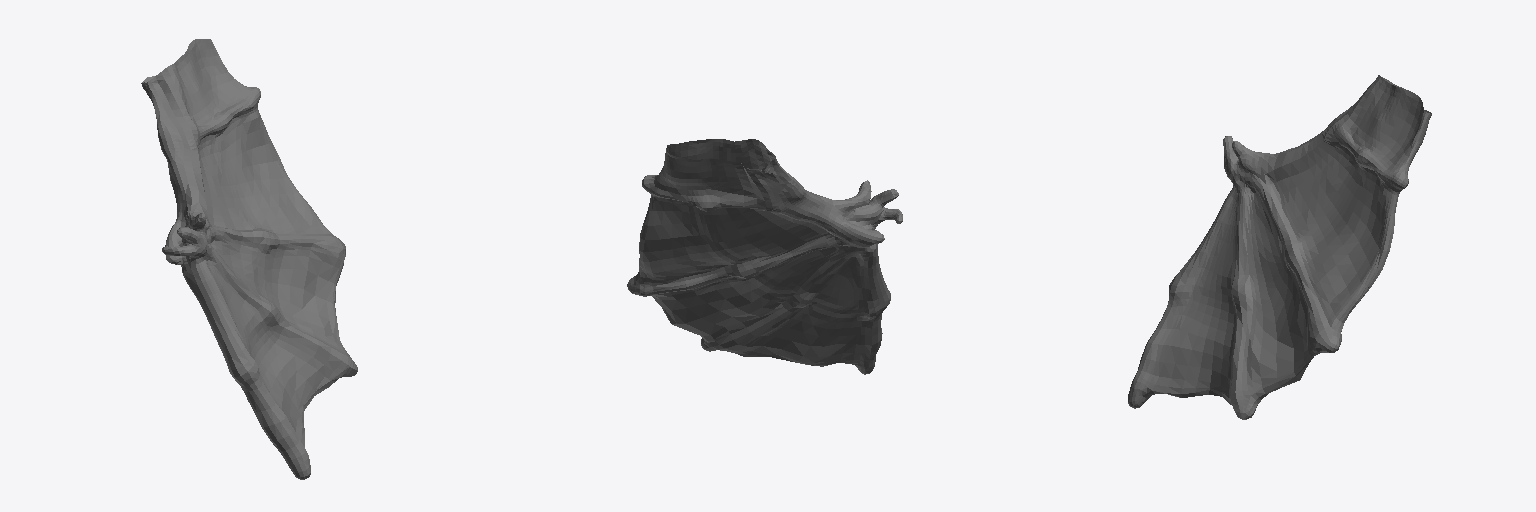
Rendered from Ala2.obj.
3 renders of one model, left to right at view 1: azimuth 30°, elevation 25°; view 2: azimuth 150°, elevation 25°; view 3: azimuth 270°, elevation 25°, orthographic.
Parts seen in each view (by area): view 1: Ala2; view 2: Ala2; view 3: Ala2.
Boxes of the visible parts, <box> form: Ala2: <box>141,39,357,479</box>; Ala2: <box>627,139,902,374</box>; Ala2: <box>1128,75,1431,419</box>.
Size of the model in its own units: 6.31 by 8.68 by 7.3.